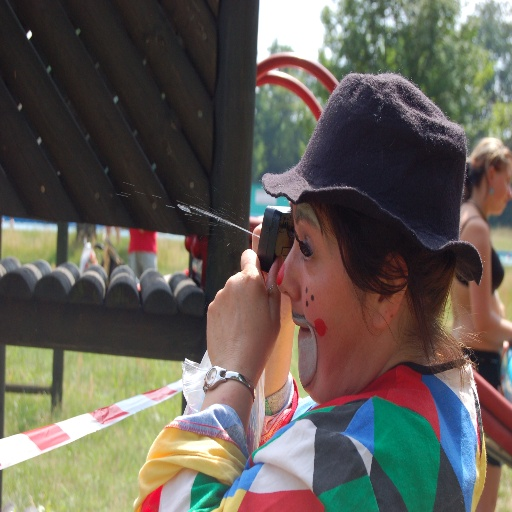hand: (200, 245, 280, 393), (252, 221, 294, 362)
